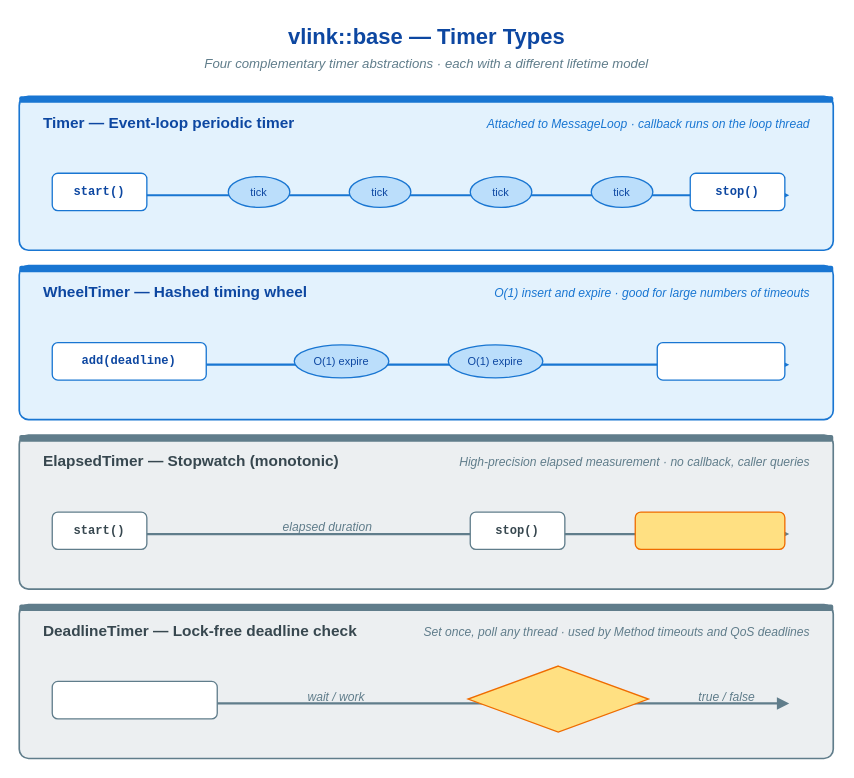
Some shapes in this 854 by 778 pixel diagram are drawn without their labels. Each missing label, with the centre of its shape:
get(): the point at 709,530
has_expired()?: the point at 558,698
remove(): the point at 720,360
set_deadline(): the point at 134,699
